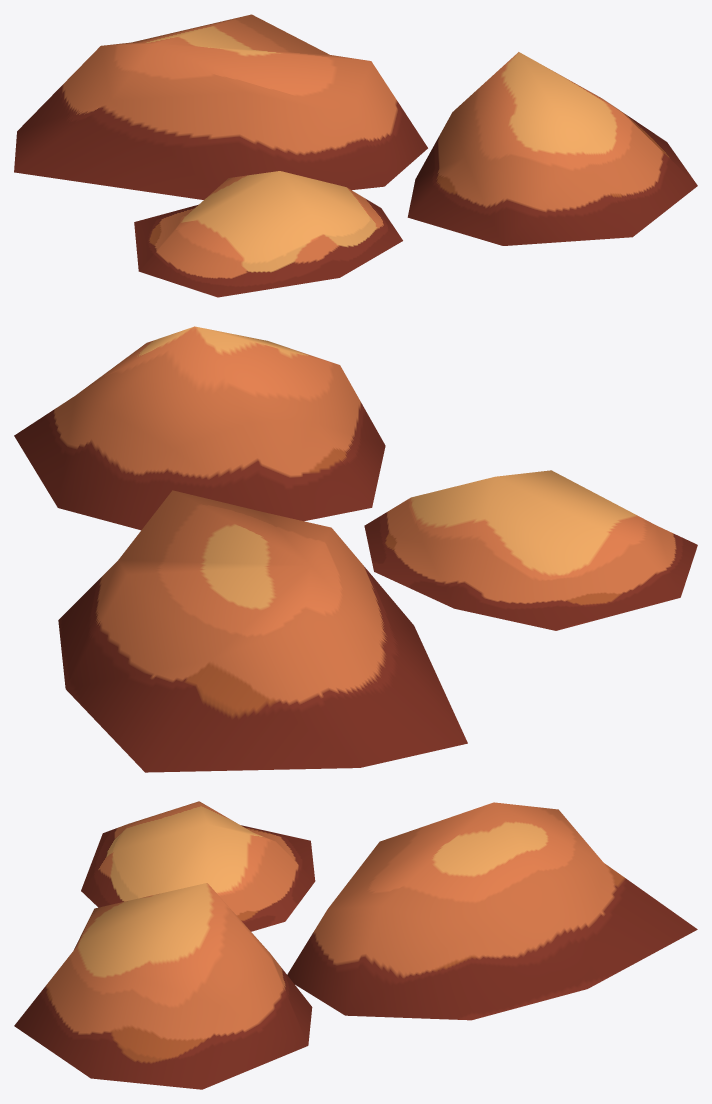
File: Rock 2x 2 2_preview_3DS_simplified.glb
3 renders of one model, top to bottom at view 1: azimuth 30°, elevation 25°; view 2: azimuth 150°, elevation 25°; view 3: azimuth 270°, elevation 25°, orthographic. The views are drawn at different scales.
Visible parts, largest first — view 1: Marine Park Empire model; view 2: Marine Park Empire model; view 3: Marine Park Empire model.
Boxes of the visible parts, x1,y1,x2,y2 form: Marine Park Empire model: (14, 14, 697, 297); Marine Park Empire model: (14, 326, 697, 772); Marine Park Empire model: (14, 801, 697, 1089).
Bounding box in the file's own units: 59.87 × 14.91 × 63.3.
Materials: 1 (1 with a texture image).
